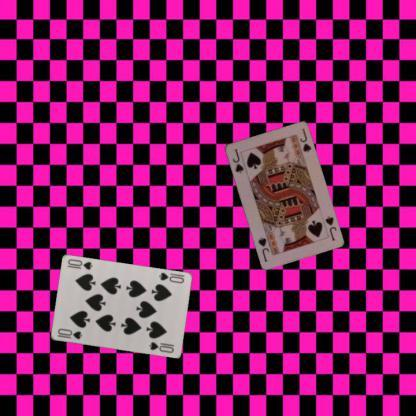10s: (54, 326, 84, 341), (156, 270, 185, 285)
Js: (322, 213, 338, 242), (230, 146, 245, 175)
